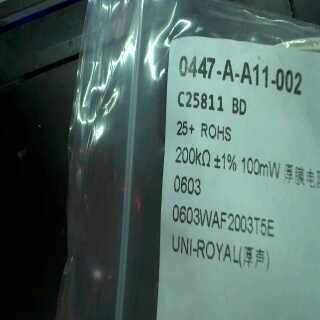200kR: (173, 146, 212, 168)
